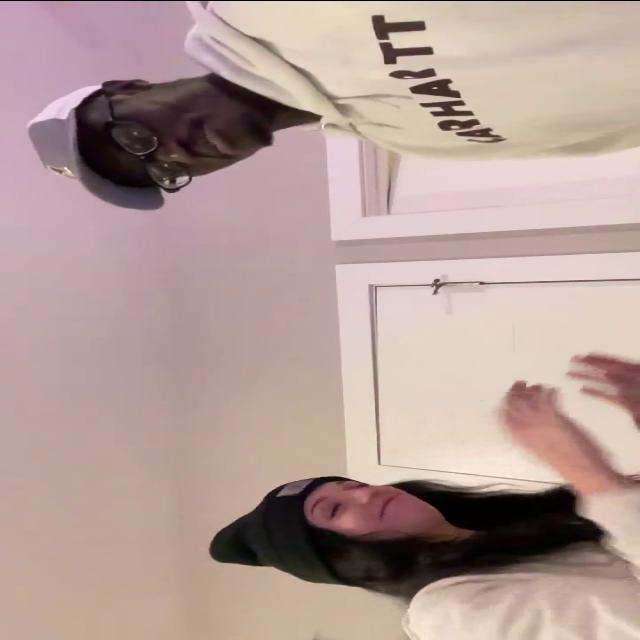Paper: (492, 380, 603, 471)
